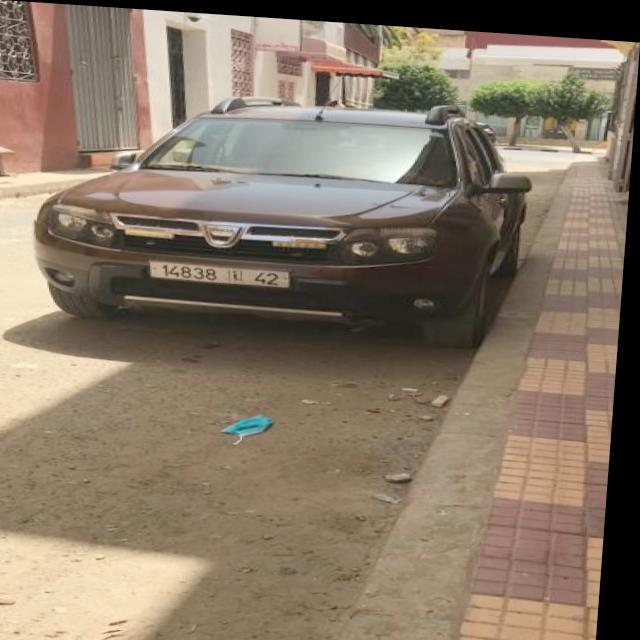License-Plate: (157, 260, 293, 284)
